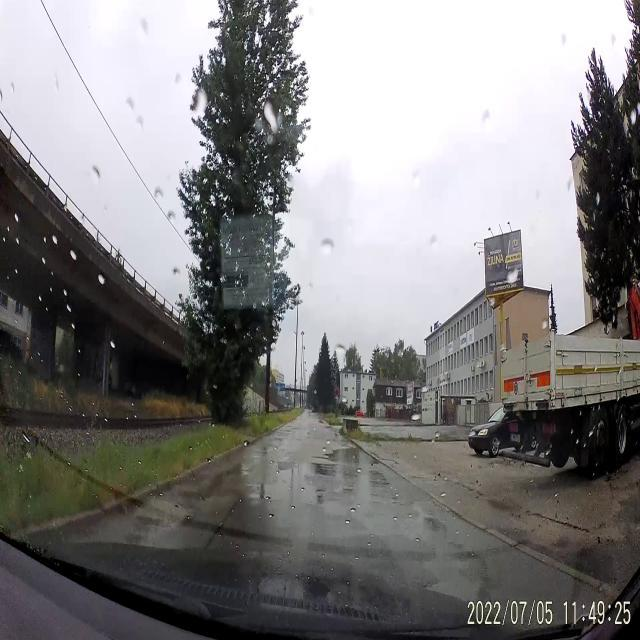Pothole: (304, 574, 334, 600), (137, 510, 175, 530), (316, 484, 326, 506), (310, 452, 330, 462), (342, 484, 354, 496), (370, 457, 382, 468)
